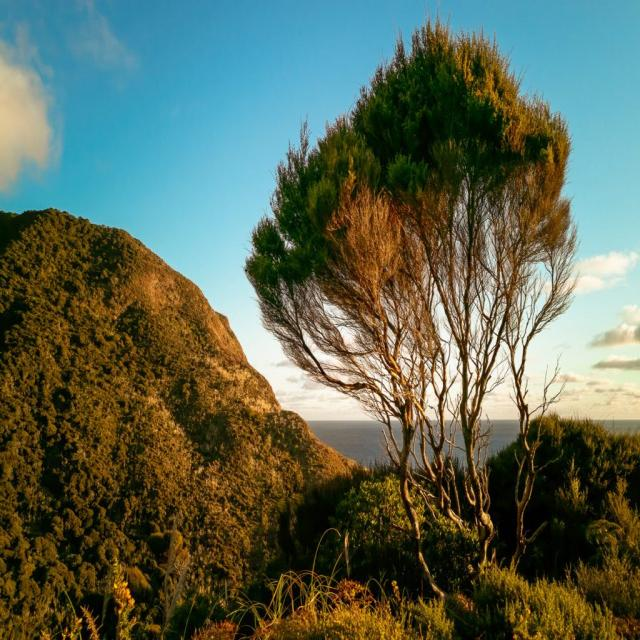Manuka: (243, 22, 582, 595)
